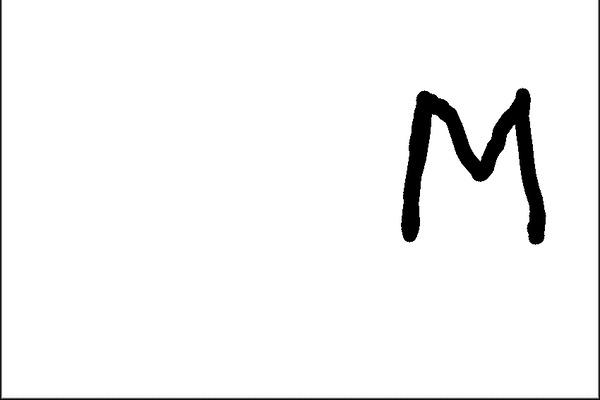M: (398, 80, 548, 247)
